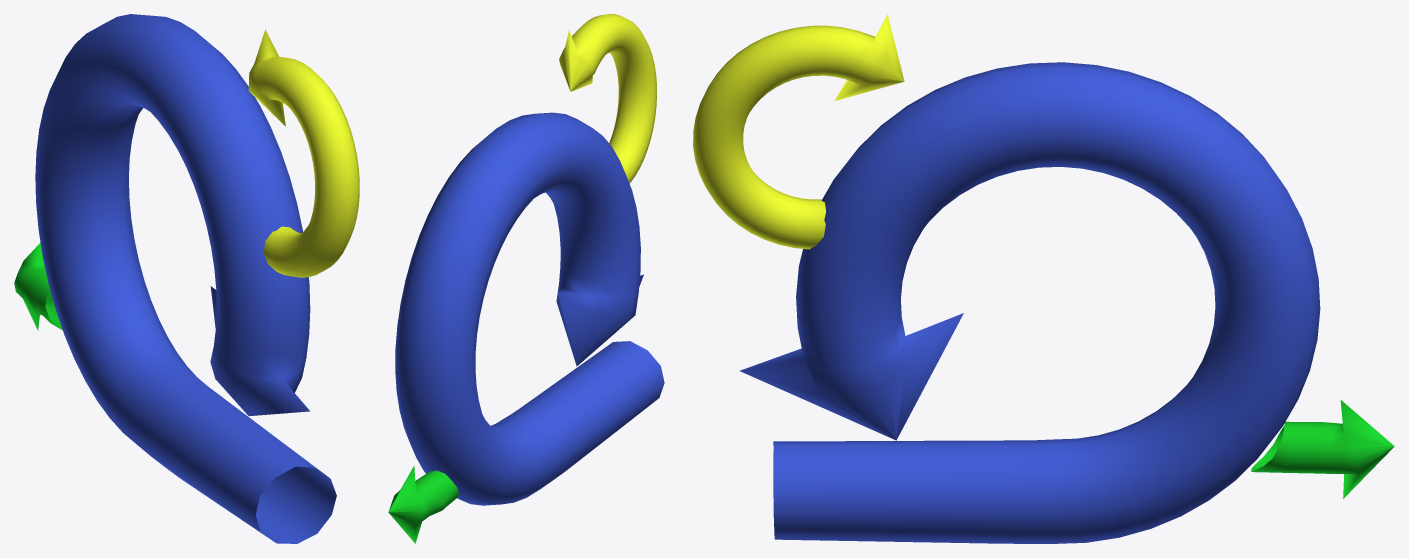
File: agile_scrum_c.glb
The picture shows the model from 3 angles, left to right: view 1: azimuth 30°, elevation 25°; view 2: azimuth 150°, elevation 25°; view 3: azimuth 270°, elevation 25°; orthographic projection. The views are drawn at different scales.
Parts seen in each view (by area): view 1: Object_3, Object_4, Object_2; view 2: Object_3, Object_4, Object_2; view 3: Object_3, Object_4, Object_2.
Part boxes in pixels (<box>): Object_3: <box>35,14,336,543</box>; Object_4: <box>248,30,359,277</box>; Object_2: <box>14,242,62,330</box>; Object_3: <box>395,112,664,505</box>; Object_4: <box>559,14,656,183</box>; Object_2: <box>388,465,458,543</box>; Object_3: <box>739,62,1320,543</box>; Object_4: <box>693,14,904,249</box>; Object_2: <box>1251,400,1394,498</box>.
Bounding box in the file's own units: 0.5467 × 2.82 × 3.34.
